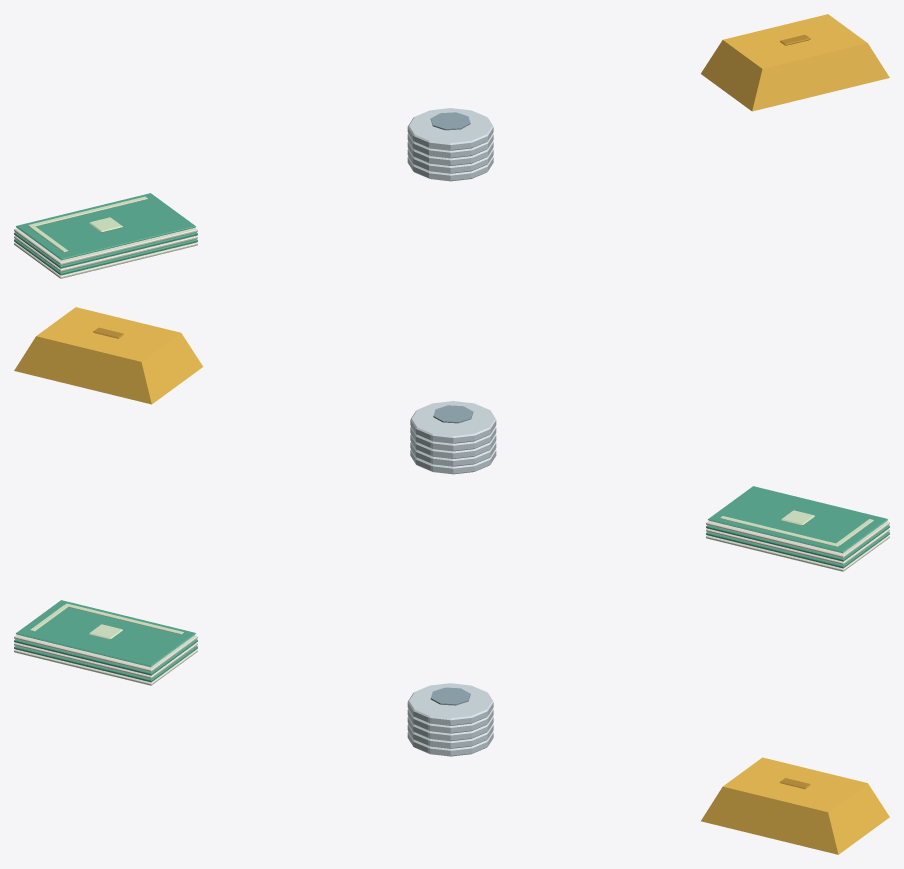
The model's file is money-models.glb.
The picture shows the model from 3 angles, top to bottom: view 1: azimuth 30°, elevation 25°; view 2: azimuth 150°, elevation 25°; view 3: azimuth 330°, elevation 25°; orthographic projection.
Visible parts, largest first — view 1: Faceted gold ingot, Banknote face, Silver coin 04, Banknote sheet 04, Banknote sheet 02, Banknote sheet 01, Banknote sheet 00, Banknote sheet 03, Silver coin 03, Silver coin 01, Silver coin 00, Silver coin 02 (+1 smaller); view 2: Faceted gold ingot, Banknote face, Silver coin 04, Banknote sheet 04, Banknote sheet 02, Banknote sheet 01, Banknote sheet 00, Banknote sheet 03, Silver coin 03, Silver coin 01, Silver coin 00, Silver coin 02 (+1 smaller); view 3: Faceted gold ingot, Banknote face, Silver coin 04, Banknote sheet 04, Banknote sheet 02, Banknote sheet 01, Banknote sheet 03, Banknote sheet 00, Silver coin 00, Silver coin 03, Silver coin 02, Silver coin 01 (+1 smaller).
Part boxes in pixels (x1,y1,x2,y2): Faceted gold ingot: [701, 14, 889, 111]; Banknote face: [16, 193, 195, 260]; Silver coin 04: [407, 108, 493, 150]; Banknote sheet 04: [14, 227, 197, 264]; Banknote sheet 02: [14, 235, 197, 271]; Banknote sheet 01: [14, 239, 197, 275]; Banknote sheet 00: [14, 242, 197, 278]; Banknote sheet 03: [14, 232, 197, 268]; Silver coin 03: [407, 133, 493, 158]; Silver coin 01: [407, 149, 493, 173]; Silver coin 00: [407, 156, 493, 181]; Silver coin 02: [407, 141, 493, 165]; Faceted gold ingot: [14, 307, 202, 404]; Banknote face: [708, 486, 887, 553]; Silver coin 04: [410, 401, 496, 443]; Banknote sheet 04: [706, 520, 889, 557]; Banknote sheet 02: [706, 528, 889, 564]; Banknote sheet 01: [706, 532, 889, 568]; Banknote sheet 00: [706, 535, 889, 571]; Banknote sheet 03: [706, 525, 889, 561]; Silver coin 03: [410, 426, 496, 451]; Silver coin 01: [410, 442, 496, 466]; Silver coin 00: [410, 449, 496, 474]; Silver coin 02: [410, 434, 496, 458]; Faceted gold ingot: [701, 757, 889, 854]; Banknote face: [16, 600, 195, 667]; Silver coin 04: [407, 683, 493, 725]; Banknote sheet 04: [14, 634, 197, 671]; Banknote sheet 02: [14, 642, 197, 678]; Banknote sheet 01: [14, 646, 197, 682]; Banknote sheet 03: [14, 639, 197, 675]; Banknote sheet 00: [14, 649, 197, 685]; Silver coin 00: [407, 731, 493, 756]; Silver coin 03: [407, 708, 493, 733]; Silver coin 02: [407, 716, 493, 741]; Silver coin 01: [407, 724, 493, 748].
Size of the model in its own units: 2.04 by 0.1015 by 0.22.
